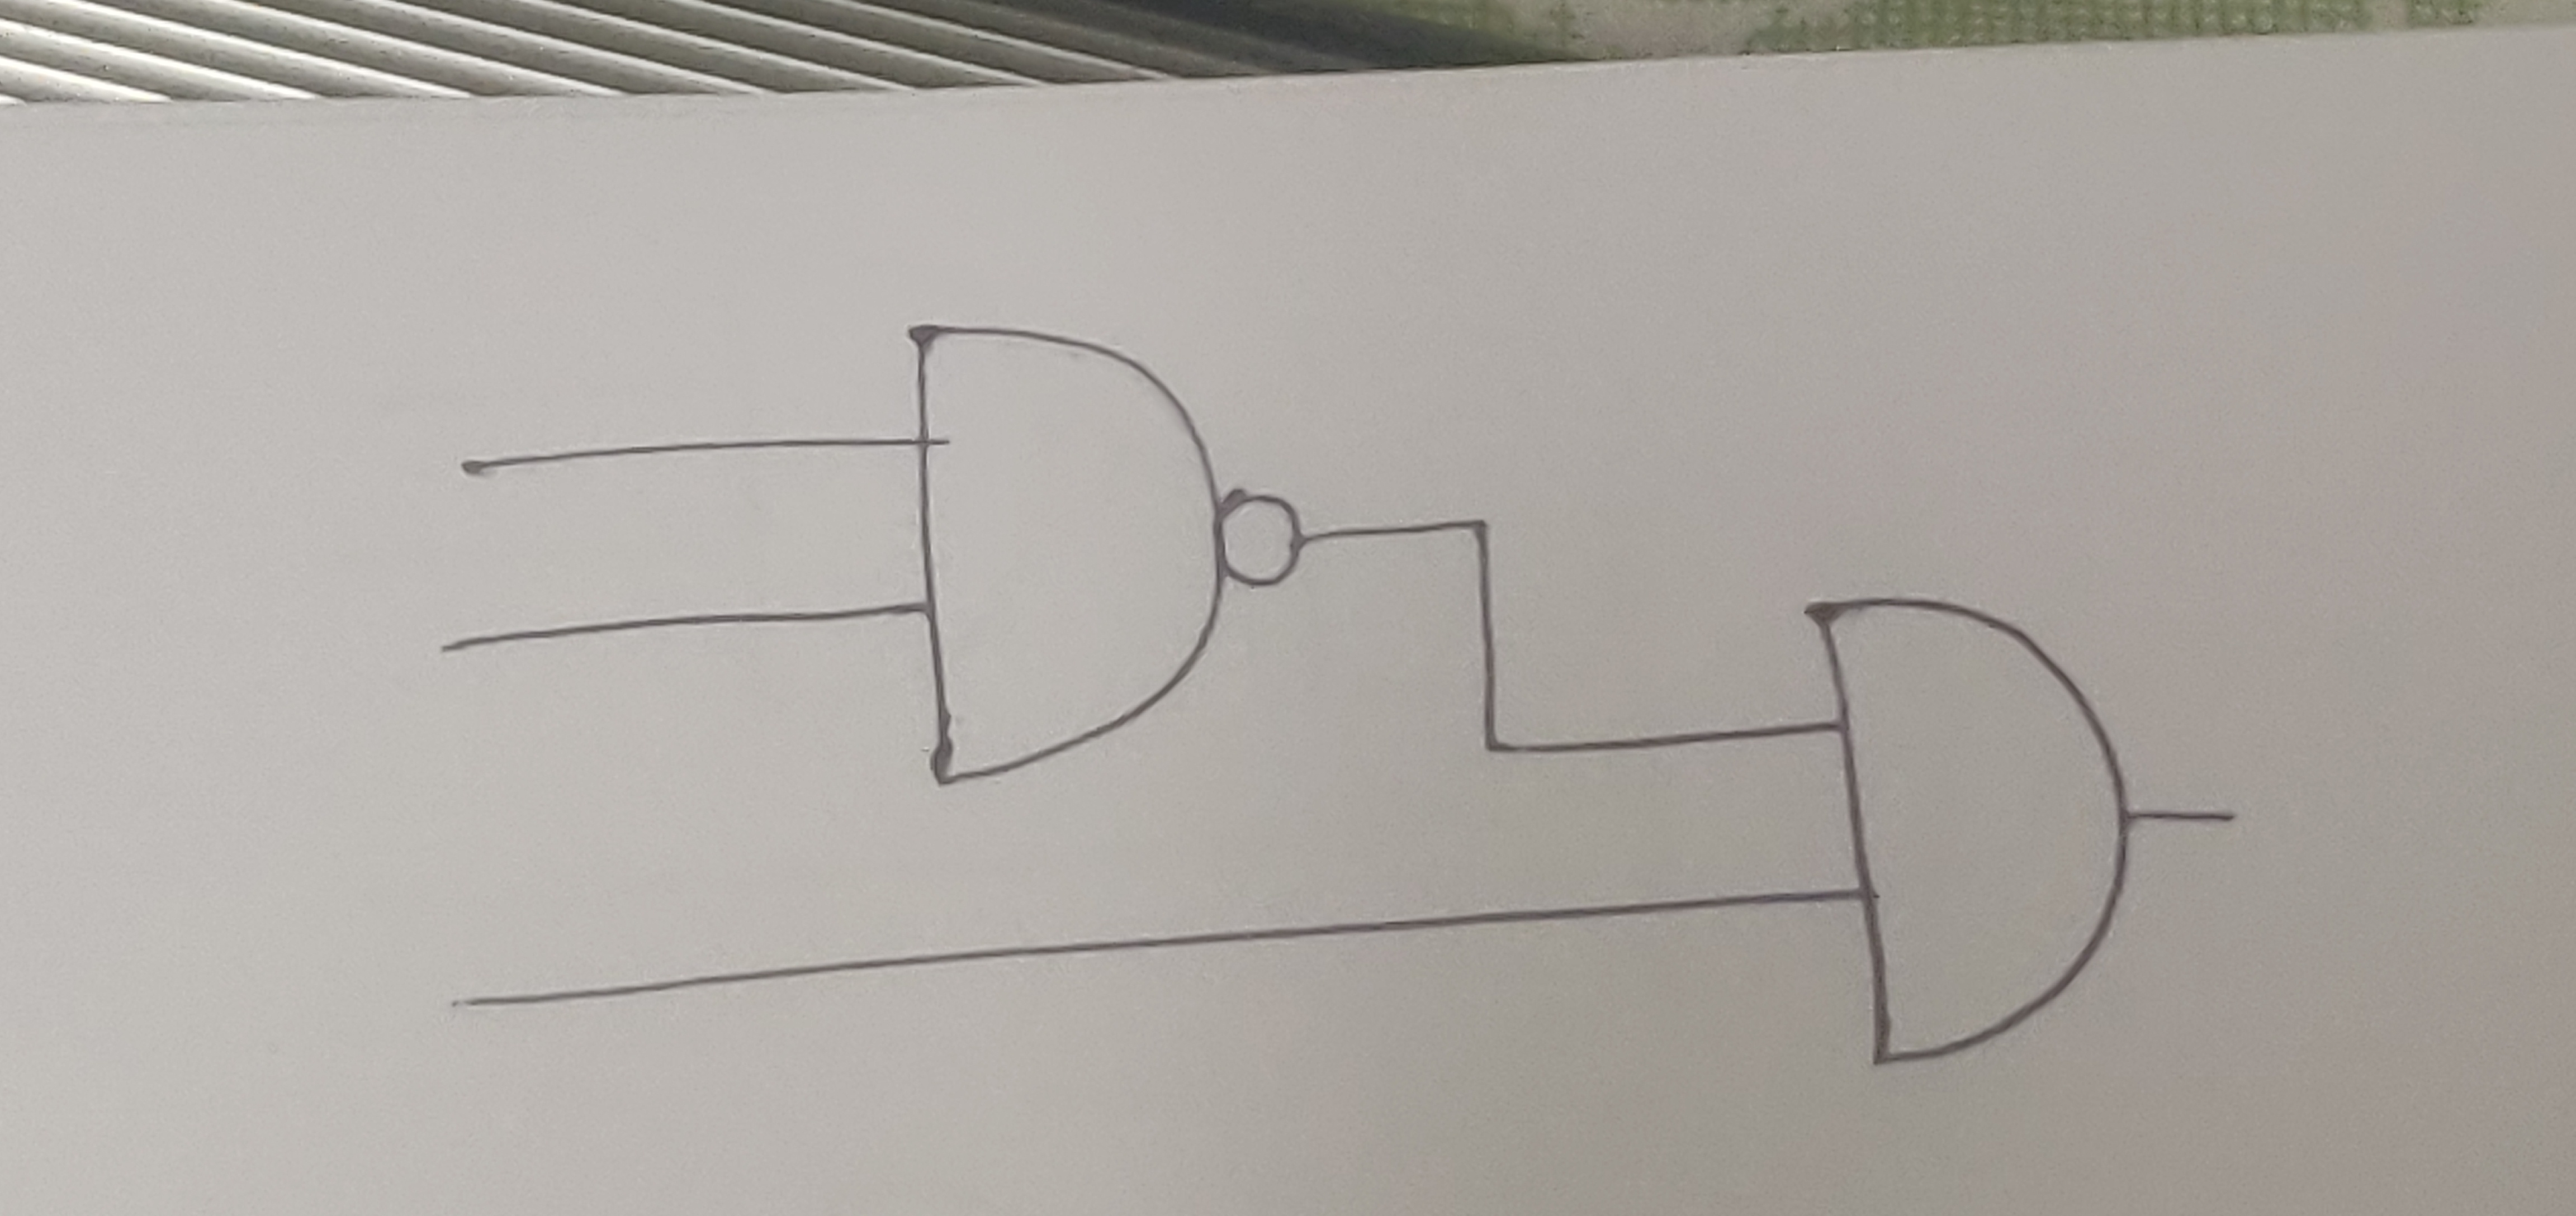and: (1801, 592, 2142, 1078), (904, 322, 1226, 795)
not: (1219, 486, 1314, 605)
